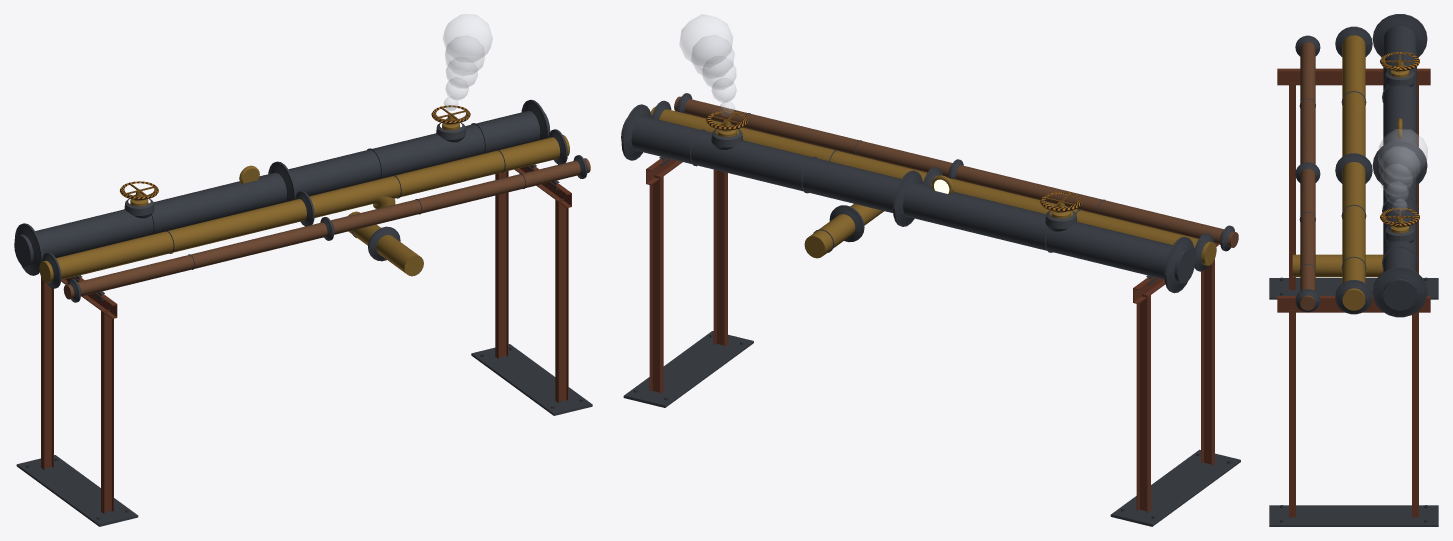
The model's file is foundry_dress_pipes.glb.
3 renders of one model, left to right at view 1: azimuth 30°, elevation 25°; view 2: azimuth 150°, elevation 25°; view 3: azimuth 270°, elevation 25°, orthographic. The views are drawn at different scales.
Visible parts, largest first — view 1: pipes_line0_pipe, pipes_line1_pipe, pipes_line2_pipe, pipes_foot_p, pipes_foot_n, pipes_post_pb, pipes_post_nb, pipes_post_na, pipes_post_pa, pipes_steam4, pipes_line0_fittings, pipes_drop_pipe (+4 smaller); view 2: pipes_line0_pipe, pipes_line2_pipe, pipes_line1_pipe, pipes_foot_p, pipes_foot_n, pipes_post_pa, pipes_post_na, pipes_post_nb, pipes_post_pb, pipes_line0_fittings, pipes_steam4, pipes_drop_pipe (+3 smaller); view 3: pipes_line0_pipe, pipes_line1_pipe, pipes_line2_pipe, pipes_line0_fittings, pipes_foot_p, pipes_steam4, pipes_line1_fittings, pipes_head_n, pipes_post_pb, pipes_post_pa, pipes_post_nb, pipes_steam3 (+11 smaller).
Part boxes in pixels (x1,y1,x2,y2): pipes_line0_pipe: (14,110,550,266); pipes_line1_pipe: (39,135,569,283); pipes_line2_pipe: (63,158,590,299); pipes_foot_p: (471,344,592,415); pipes_foot_n: (16,455,138,526); pipes_post_pb: (555,199,568,402); pipes_post_nb: (101,309,113,513); pipes_post_na: (41,277,53,469); pipes_post_pa: (495,171,508,358); pipes_steam4: (443,14,492,62); pipes_line0_fittings: (14,99,549,275); pipes_drop_pipe: (348,211,423,276); pipes_line0_pipe: (621,116,1195,283); pipes_line2_pipe: (674,96,1238,247); pipes_line1_pipe: (650,106,1216,265); pipes_foot_p: (623,331,753,407); pipes_foot_n: (1110,449,1240,526); pipes_post_pa: (649,175,663,393); pipes_post_na: (1136,294,1150,512); pipes_post_nb: (1201,259,1214,465); pipes_post_pb: (713,169,727,347); pipes_line0_fittings: (621,104,1194,293); pipes_steam4: (679,14,732,67); pipes_drop_pipe: (804,204,883,258); pipes_line0_pipe: (1383,25,1416,310); pipes_line1_pipe: (1342,35,1365,310); pipes_line2_pipe: (1300,42,1315,310); pipes_line0_fittings: (1372,14,1427,317); pipes_foot_p: (1269,505,1438,526); pipes_steam4: (1378,129,1427,178); pipes_line1_fittings: (1335,26,1372,314); pipes_head_n: (1277,68,1430,85); pipes_post_pb: (1289,310,1295,517); pipes_post_pa: (1412,311,1418,517); pipes_post_nb: (1289,82,1295,289); pipes_steam3: (1379,146,1419,187).
Size of the model in its own units: 8 by 5.27 by 2.2.
8 materials, 1 textured.
